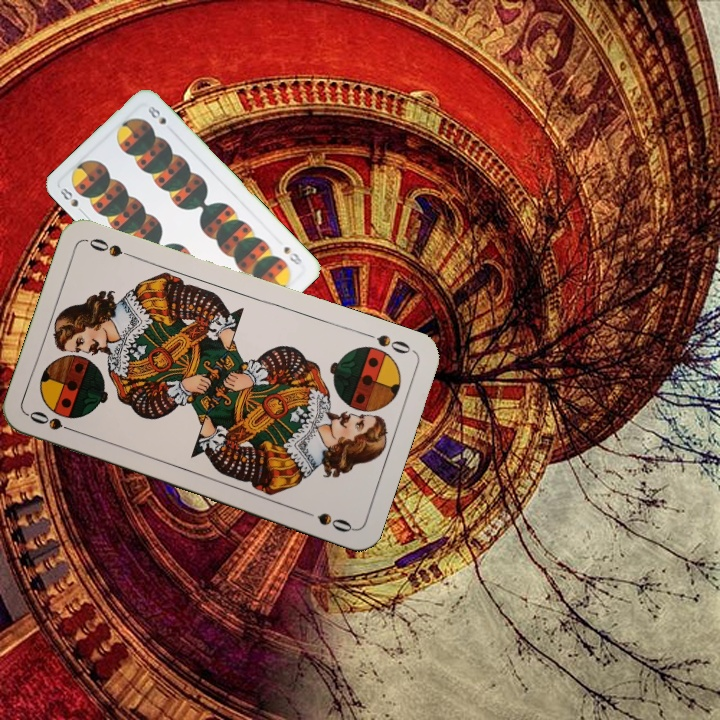S8: (56, 183, 88, 217), (280, 242, 305, 268)
SO: (25, 407, 82, 436), (359, 328, 416, 357)
